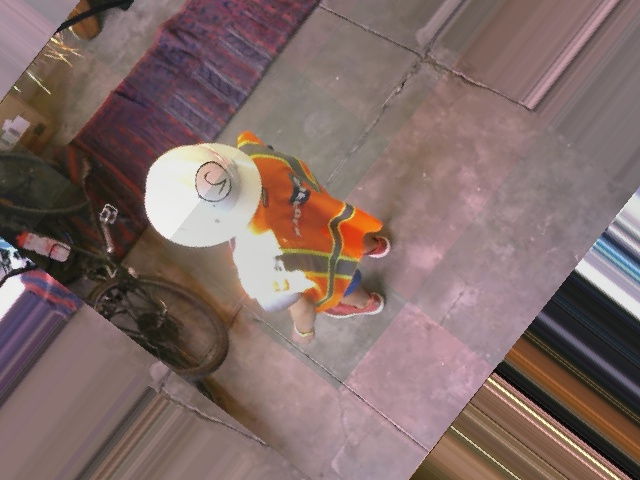two: (185, 155, 238, 208)
